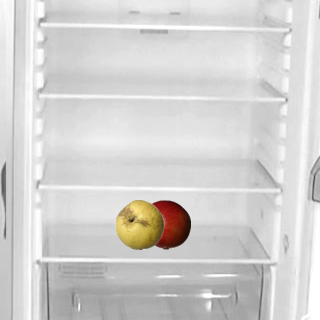Apple Braeburn: (140, 199, 190, 249)
Apple Golden 1: (114, 199, 164, 249)
